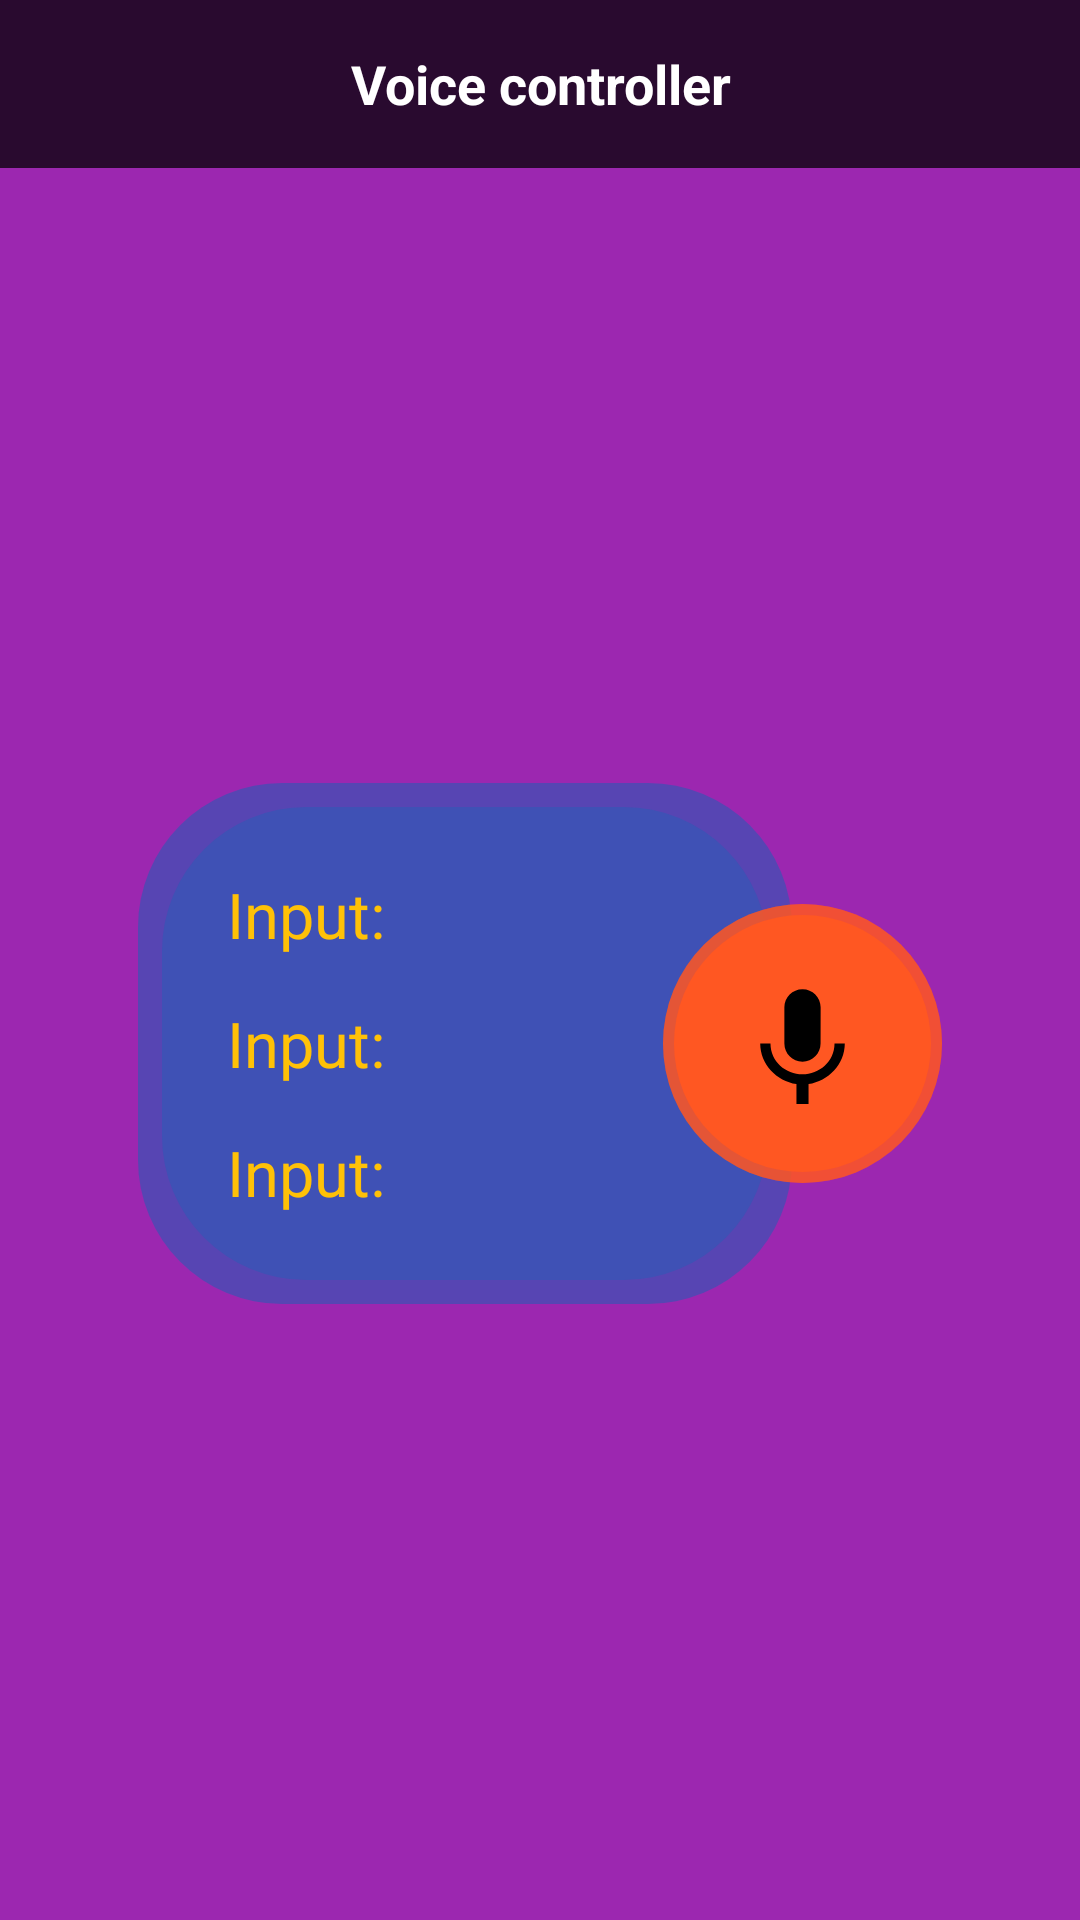

Named icons in this screenshot (1080px×1920px) and their centers, [x,y]:
voice: [802,1043]
